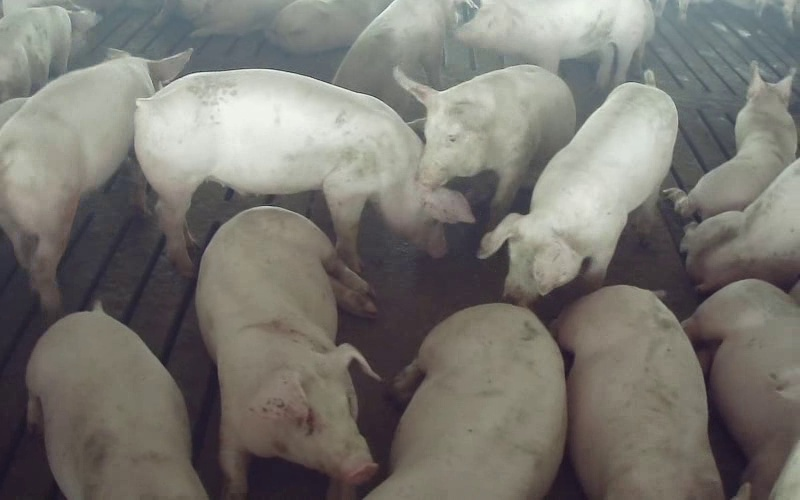pig: (136, 69, 473, 273), (196, 207, 379, 499), (0, 49, 191, 321), (478, 70, 677, 305), (366, 303, 566, 499), (26, 302, 206, 499), (394, 65, 575, 226), (682, 279, 799, 499), (664, 61, 796, 218), (456, 0, 654, 87), (680, 158, 799, 292), (0, 5, 99, 102)
